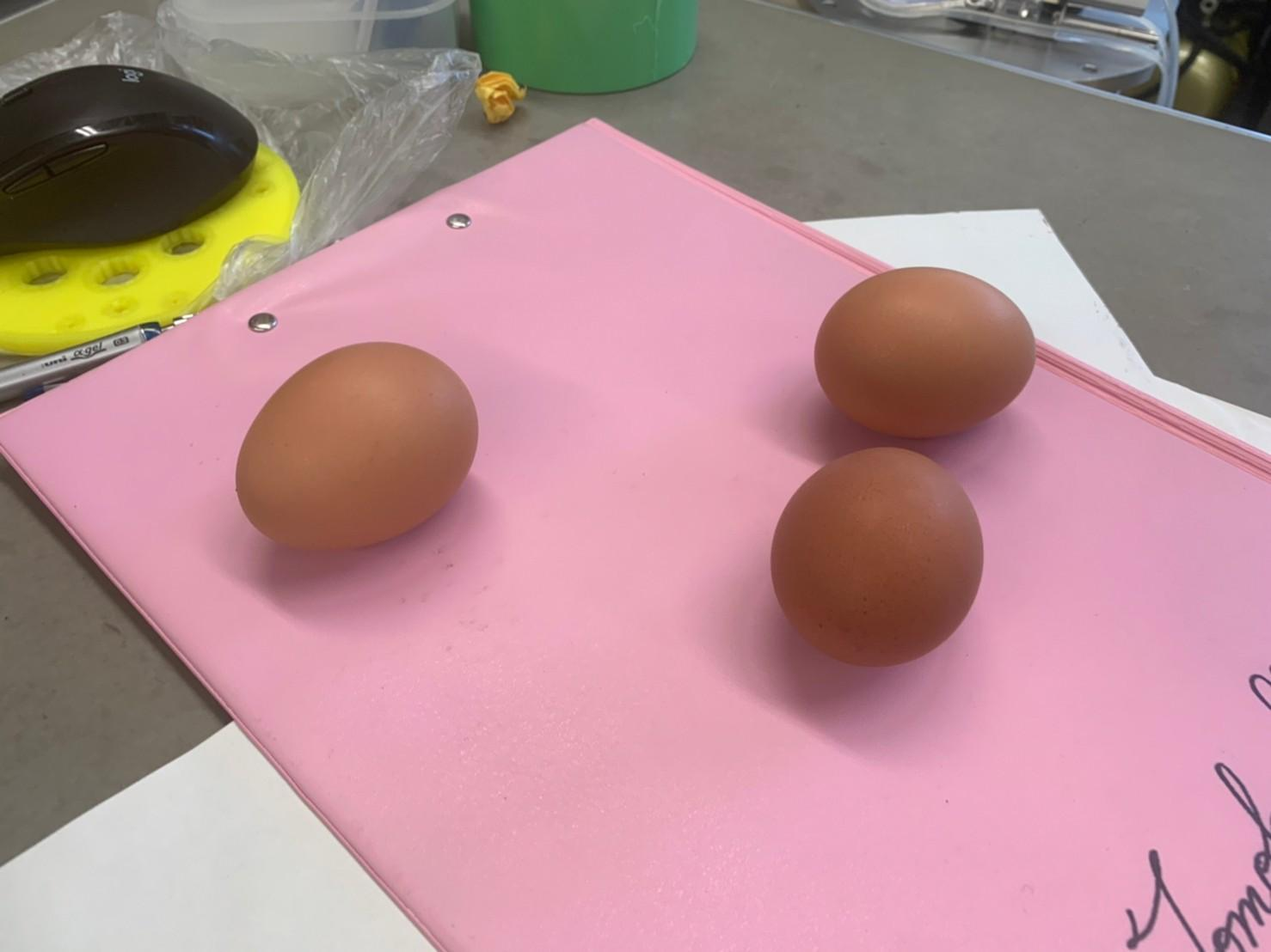egg: (228, 337, 482, 555), (764, 444, 992, 676), (809, 265, 1043, 441)
